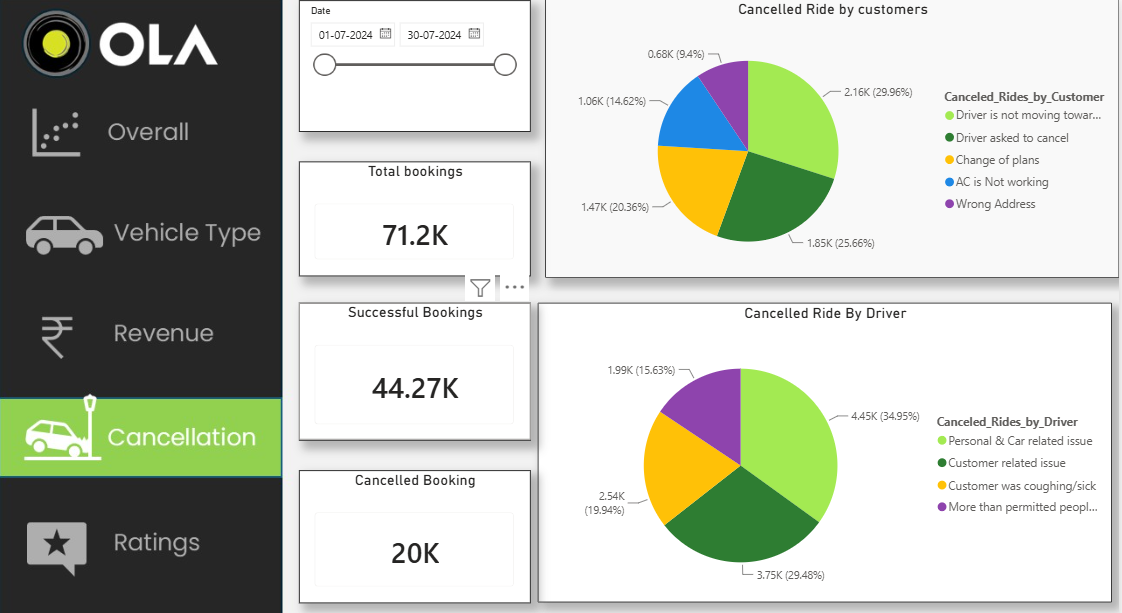

The page's visual inventory and layout, read from the dashboard file:
{"tool":"powerbi","page":{"name":"Cancellation","canvas":[1280,720],"ordinal":3},"visuals":[{"type":"actionButton","box":[0,225.1,321.7,92.3],"z":0},{"type":"actionButton","box":[0,336.6,321.7,92.3],"z":1000},{"type":"actionButton","box":[0,458.4,321.7,92.3],"z":2000},{"type":"actionButton","box":[0,576.7,321.7,92.3],"z":3000},{"type":"actionButton","box":[0,106.2,321.7,92.3],"z":4000},{"type":"pieChart","title":"Cancelled Ride by customers","fields":{"Category":["Booking_csv.Canceled_Rides_by_Customer"],"Y":["CountNonNull(Booking_csv.Canceled_Rides_by_Customer)"]},"box":[624.7,0,656.3,318.5],"z":5000},{"type":"pieChart","title":"Cancelled Ride By Driver","fields":{"Category":["Booking_csv.Canceled_Rides_by_Driver"],"Y":["CountNonNull(Booking_csv.Canceled_Rides_by_Driver)"]},"box":[615.3,347.5,656.3,342.6],"z":6000},{"type":"slicer","title":"Booking status breakdown","fields":{"Values":["Booking_csv.Date"]},"box":[342.8,1.4,264.5,150.8],"z":7000},{"type":"cardVisual","title":"Total bookings","fields":{"Data":["Count(Booking_csv.Booking_ID)"]},"box":[342.8,186.3,264.5,130.8],"z":8000},{"type":"cardVisual","title":"Successful Bookings","fields":{"Data":["Count(Booking_csv.Booking_ID)"]},"box":[342.8,347,264.5,157.9],"z":9000},{"type":"cardVisual","title":"Cancelled  Booking","fields":{"Data":["Booking_csv.July_Cancelled_Booking"]},"box":[342.6,538.1,264.5,152.2],"z":10000}]}

Visuals, with their boxes in screenshot pixels (x1, y1, x2, y2):
actionButton: locate(0, 193, 280, 274)
actionButton: locate(0, 290, 280, 371)
actionButton: locate(0, 396, 280, 477)
actionButton: locate(0, 500, 280, 580)
actionButton: locate(0, 90, 280, 170)
"Cancelled Ride by customers" pieChart: locate(544, 0, 1116, 275)
"Cancelled Ride By Driver" pieChart: locate(536, 300, 1108, 598)
"Booking status breakdown" slicer: locate(299, 0, 529, 130)
"Total bookings" cardVisual: locate(299, 159, 529, 273)
"Successful Bookings" cardVisual: locate(299, 299, 529, 437)
"Cancelled  Booking" cardVisual: locate(299, 466, 529, 599)
